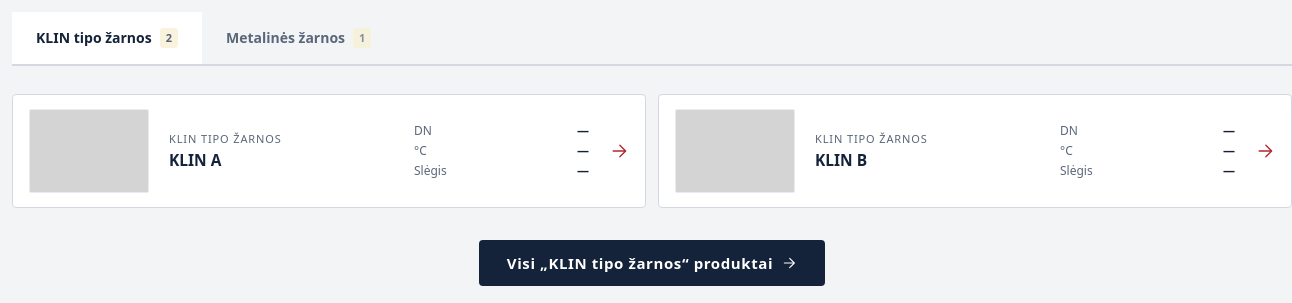
Test: CategoryTabs › switches products when another tab is clicked
The image size is (1292, 303).
Click the button "Metalinės žarnos 1". click: (299, 39)
box: [202,12,395,66]
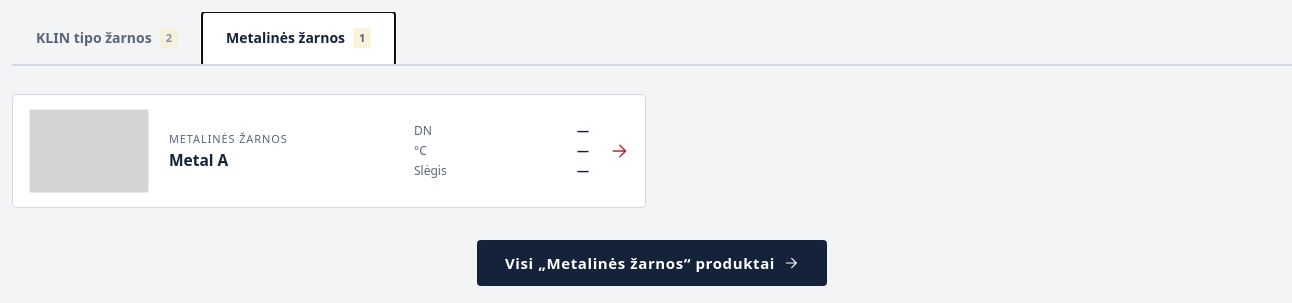
Check: the text "Metal A" is shown, box [169,149,228,171]
Check: the link "KLIN A" is gone
